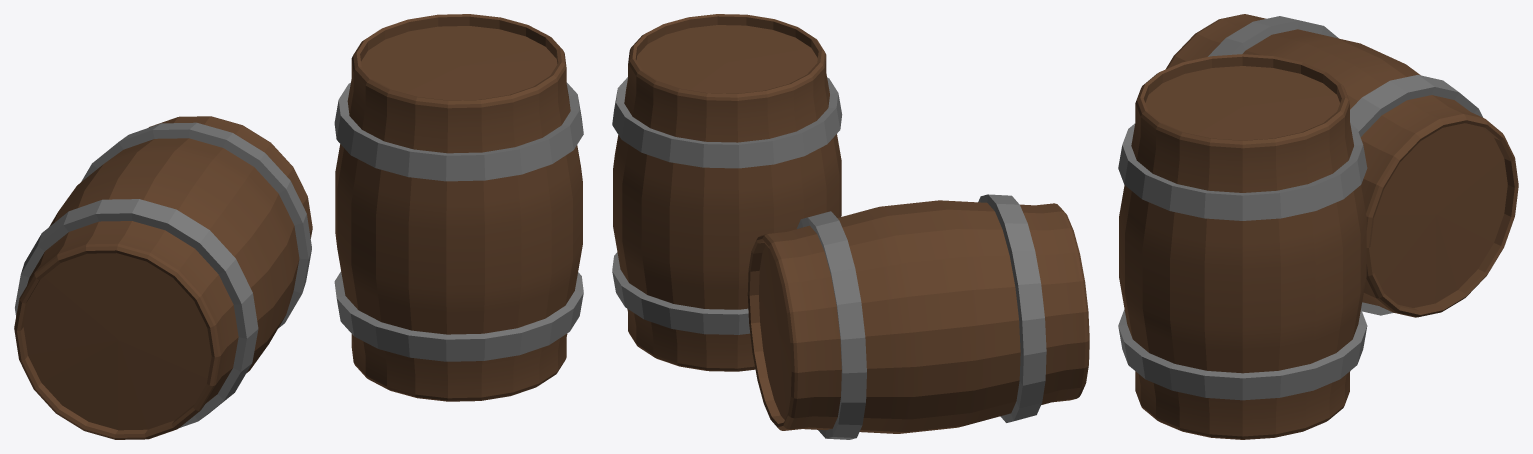
The model's file is Barrels .fbx.
The picture shows the model from 3 angles, left to right: view 1: azimuth 30°, elevation 25°; view 2: azimuth 150°, elevation 25°; view 3: azimuth 270°, elevation 25°; orthographic projection. The views are drawn at different scales.
Visible parts, largest first — view 1: polySurface8, polySurface5; view 2: polySurface5, polySurface8; view 3: polySurface8, polySurface5.
Boxes of the visible parts, bbox=[...] form: polySurface8: bbox=[334, 14, 583, 401]; polySurface5: bbox=[14, 116, 312, 439]; polySurface5: bbox=[747, 194, 1089, 439]; polySurface8: bbox=[612, 14, 842, 371]; polySurface8: bbox=[1118, 54, 1367, 439]; polySurface5: bbox=[1165, 14, 1518, 317].
Size of the model in its own units: 2.38 by 1.32 by 1.58.
